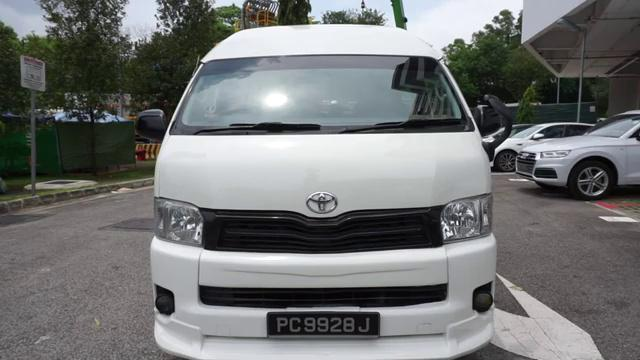Van: (146, 18, 503, 360)
